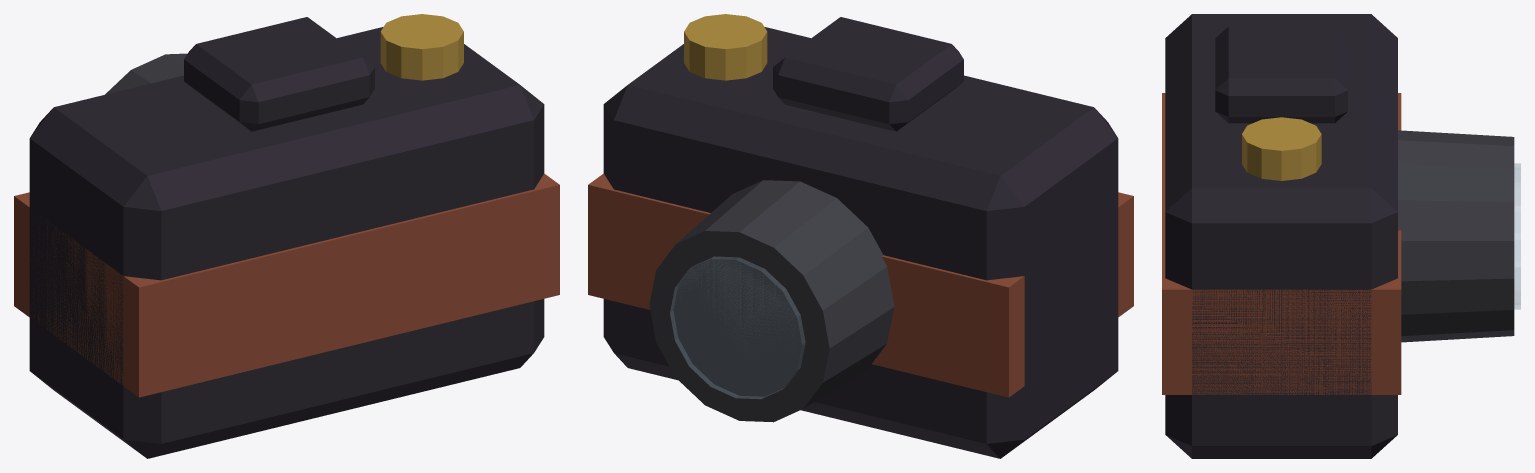
File: camera.glb
The picture shows the model from 3 angles, left to right: view 1: azimuth 30°, elevation 25°; view 2: azimuth 150°, elevation 25°; view 3: azimuth 270°, elevation 25°; orthographic projection. The views are drawn at different scales.
Visible parts, largest first — view 1: Camera_Body, Camera_Shutter, Camera_Lens; view 2: Camera_Body, Camera_Lens, Camera_Shutter; view 3: Camera_Body, Camera_Lens, Camera_Shutter.
Boxes of the visible parts, x1=… form: Camera_Body: x1=14, y1=17, x2=559, y2=458; Camera_Shutter: x1=380, y1=14, x2=463, y2=80; Camera_Lens: x1=105, y1=53, x2=187, y2=94; Camera_Body: x1=588, y1=17, x2=1133, y2=458; Camera_Lens: x1=649, y1=180, x2=894, y2=422; Camera_Shutter: x1=684, y1=14, x2=767, y2=80; Camera_Body: x1=1162, y1=14, x2=1401, y2=458; Camera_Lens: x1=1398, y1=130, x2=1520, y2=342; Camera_Shutter: x1=1242, y1=117, x2=1321, y2=180.
Bounding box in the file's own units: 0.14 × 0.105 × 0.108.
